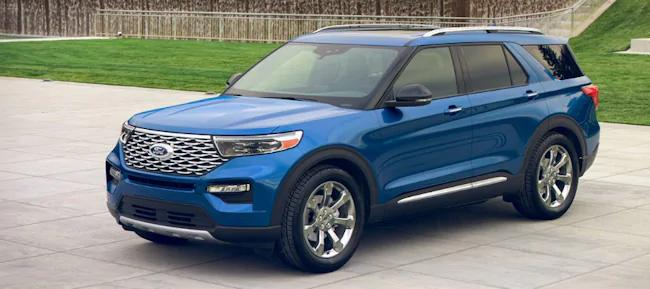Ford Explorer: (102, 21, 603, 278)
